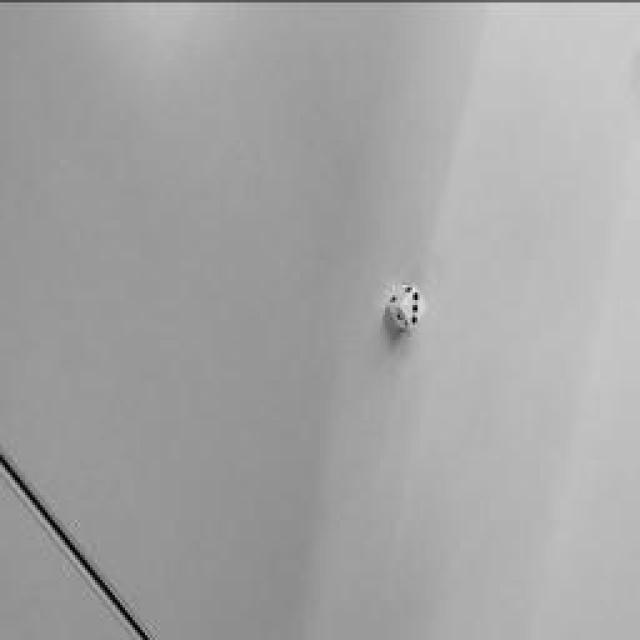dice_3: (402, 288, 426, 328)
